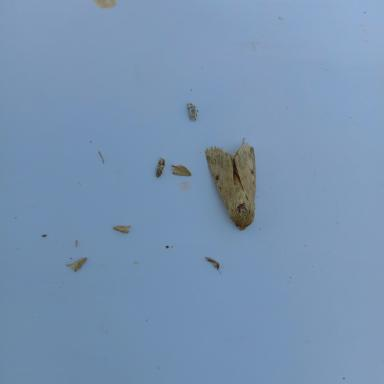abw: (203, 136, 258, 232)
